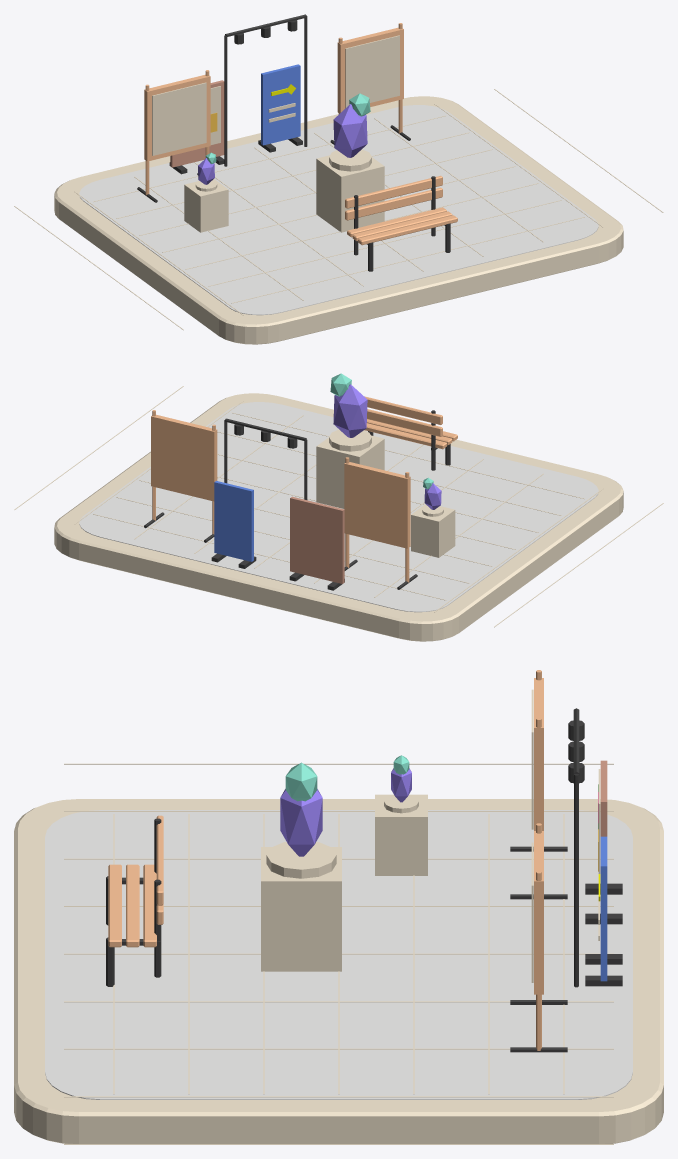
Rendered from room.fbx.
The picture shows the model from 3 angles, top to bottom: view 1: azimuth 30°, elevation 25°; view 2: azimuth 150°, elevation 25°; view 3: azimuth 270°, elevation 25°; orthographic projection. The views are drawn at different scales.
Parts seen in each view (by area): view 1: COM-02 Floor Surface, COM-01 Rounded Base Direct, Display plinth, Art surface, Art surface.001, Panel.001, Display plinth.001, Frame, Frame.001, Sculpture, Back slat.001, Back slat (+8 smaller); view 2: COM-02 Floor Surface, COM-01 Rounded Base Direct, Frame, Frame.001, Panel, Panel.001, Display plinth, Display plinth.001, Sculpture, Back slat.001, Back slat, Plinth (+2 smaller); view 3: COM-02 Floor Surface, COM-01 Rounded Base Direct, Display plinth, Display plinth.001, Sculpture, Plinth, Frame.001, Frame, Seat slat, Seat slat.001, Panel.001, Grout X.007 (+8 smaller).
Boxes of the visible parts, x1,y1,x2,y2 form: COM-02 Floor Surface: [79, 105, 598, 315]; COM-01 Rounded Base Direct: [54, 96, 623, 344]; Display plinth: [316, 155, 384, 232]; Art surface: [152, 82, 206, 155]; Art surface.001: [345, 35, 399, 108]; Panel.001: [261, 64, 300, 145]; Display plinth.001: [184, 179, 228, 232]; Frame: [144, 74, 210, 161]; Frame.001: [337, 27, 403, 113]; Sculpture: [333, 104, 367, 157]; Back slat.001: [345, 175, 442, 208]; Back slat: [345, 187, 442, 220]; COM-02 Floor Surface: [79, 402, 598, 612]; COM-01 Rounded Base Direct: [54, 393, 623, 641]; Frame: [344, 462, 410, 548]; Frame.001: [151, 414, 217, 501]; Panel: [290, 496, 344, 583]; Panel.001: [214, 481, 253, 561]; Display plinth: [316, 435, 384, 508]; Display plinth.001: [411, 504, 455, 557]; Sculpture: [333, 384, 367, 437]; Back slat.001: [364, 396, 442, 424]; Back slat: [367, 409, 442, 436]; Plinth: [329, 429, 371, 451]; COM-02 Floor Surface: [45, 810, 632, 1099]; COM-01 Rounded Base Direct: [14, 799, 663, 1143]; Display plinth: [261, 847, 341, 971]; Display plinth.001: [375, 794, 427, 875]; Sculpture: [280, 789, 322, 856]; Plinth: [266, 842, 336, 878]; Frame.001: [534, 831, 543, 994]; Frame: [534, 678, 543, 830]; Seat slat: [108, 864, 121, 947]; Seat slat.001: [126, 864, 139, 947]; Panel.001: [600, 836, 607, 981]; Grout X.007: [64, 1096, 613, 1097].
Size of the model in its own units: 721 by 219 by 520.
